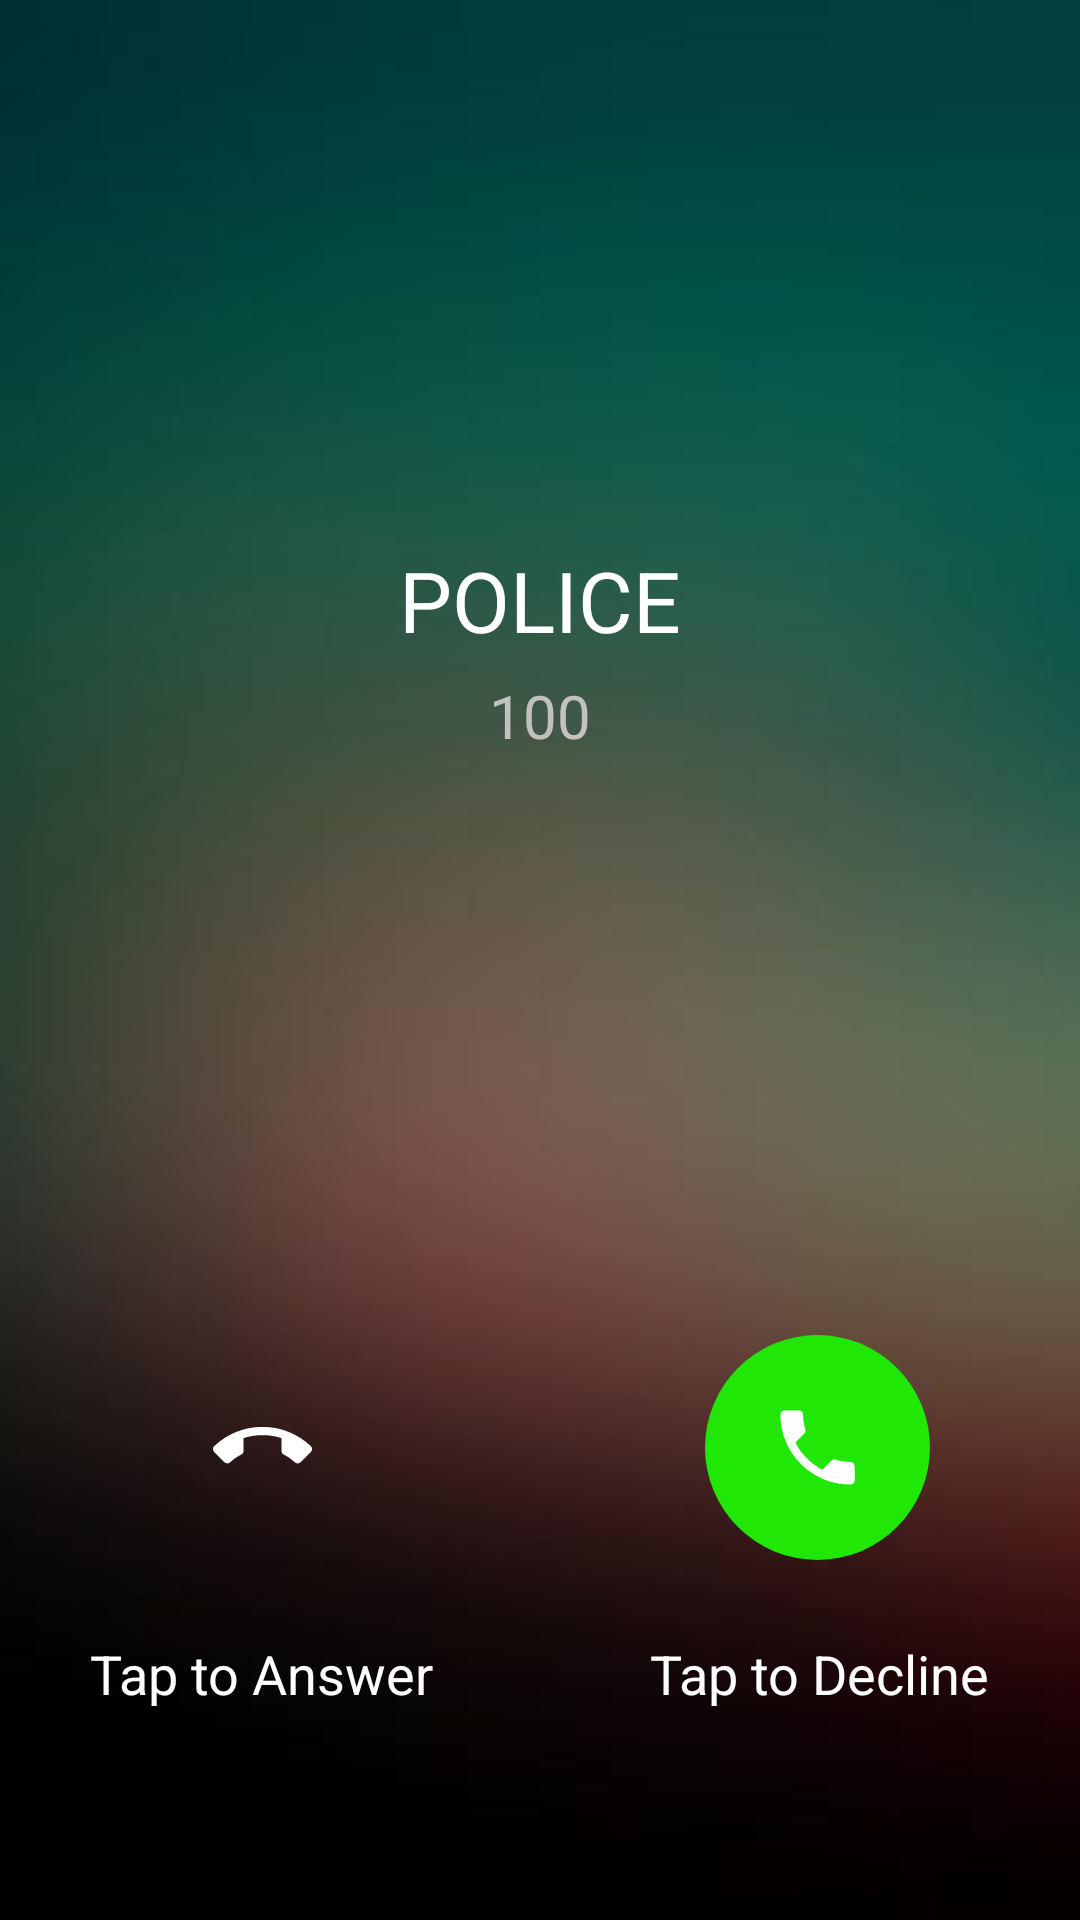

Named icons in this screenshot (1080w x 1920h) and their centers, (x,y):
call attend: (817,1447)
